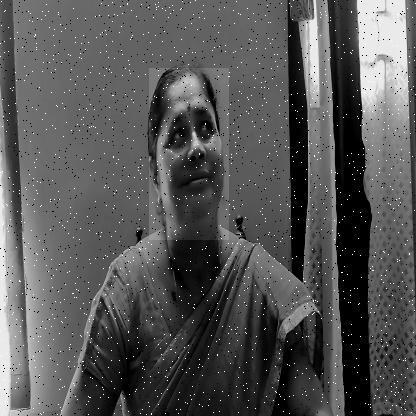Distracted: (149, 68, 229, 240)
